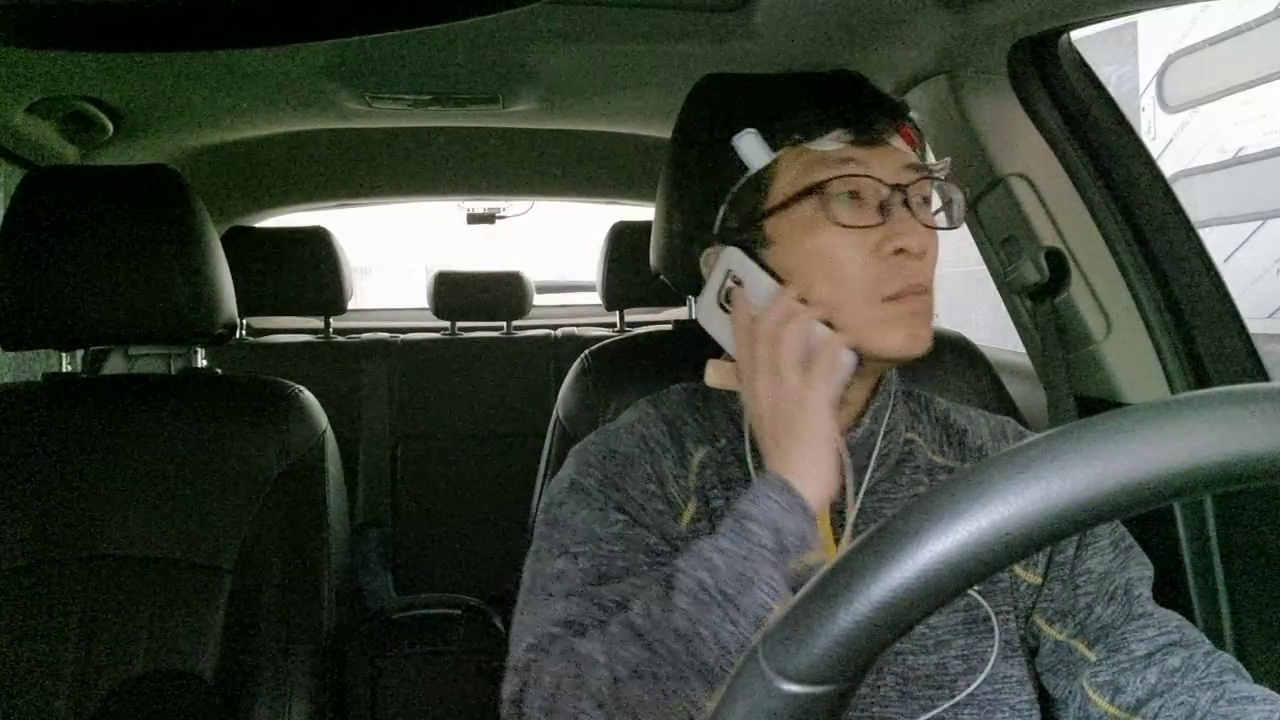phone: (654, 215, 873, 436)
